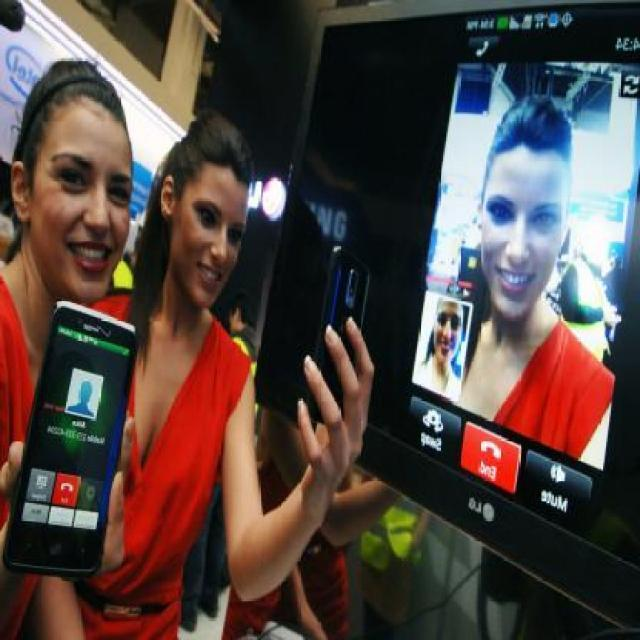phone: (16, 297, 139, 586), (306, 243, 370, 425)
